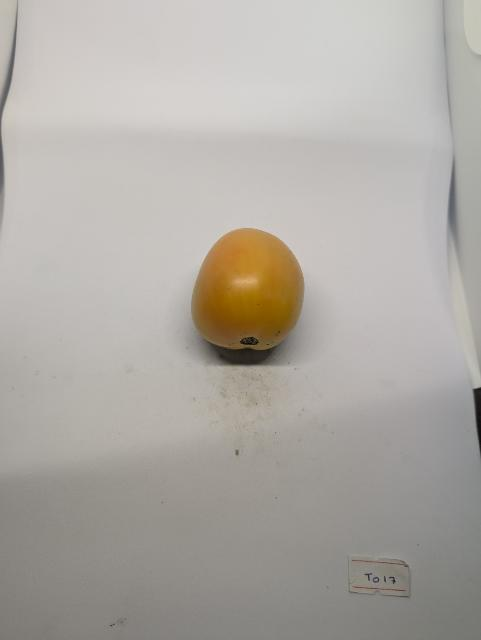turning: (186, 212, 314, 369)
